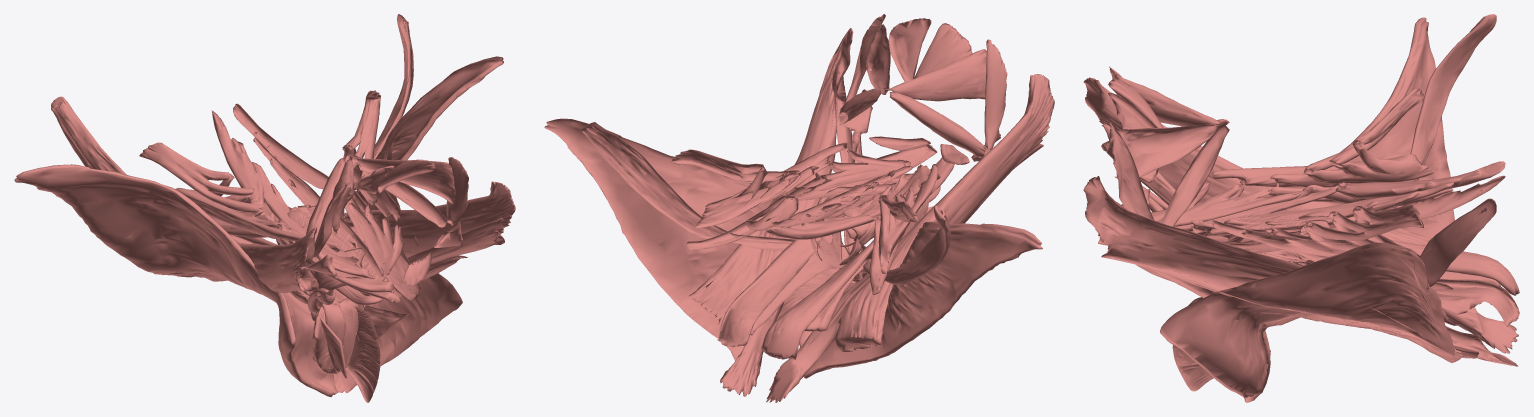
The model's file is neck__muscular.dc0d908191.glb.
The picture shows the model from 3 angles, left to right: view 1: azimuth 30°, elevation 25°; view 2: azimuth 150°, elevation 25°; view 3: azimuth 270°, elevation 25°; orthographic projection. The views are drawn at different scales.
Parts seen in each view (by area): view 1: Platysma.r, Platysma.l, Longus colli muscle.l, Sternocleidomastoid muscle.l, Longus colli muscle.r, Sternocleidomastoid muscle.r, Scalenus posterior muscle.r, Omohyoid muscle.r, Scalenus medius muscle.r, Genioglossus muscle.l, Rectus posterior major capitis muscle.l, Omohyoid muscle.l (+22 smaller); view 2: Platysma.l, Sternocleidomastoid muscle.r, Platysma.r, Sternocleidomastoid muscle.l, Omohyoid muscle.l, Longus colli muscle.l, Sternothyroid muscle.l, Sternothyroid muscle.r, Scalenus medius muscle.l, Rectus posterior major capitis muscle.r, Longus colli muscle.r, Omohyoid muscle.r (+20 smaller); view 3: Platysma.l, Sternocleidomastoid muscle.l, Longus colli muscle.r, Platysma.r, Sternocleidomastoid muscle.r, Scalenus medius muscle.r, Omohyoid muscle.r, Rectus posterior major capitis muscle.l, Scalenus medius muscle.l, Omohyoid muscle.l, Scalenus posterior muscle.l, Obliquus inferior capitis muscle.l (+17 smaller).
Boxes of the visible parts, x1,y1,x2,y2 form: Platysma.r: (14, 164, 337, 396); Platysma.l: (332, 56, 503, 393); Longus colli muscle.l: (233, 103, 403, 276); Sternocleidomastoid muscle.l: (343, 181, 515, 258); Longus colli muscle.r: (211, 110, 375, 278); Sternocleidomastoid muscle.r: (238, 224, 317, 293); Scalenus posterior muscle.r: (139, 142, 266, 212); Omohyoid muscle.r: (51, 96, 307, 303); Scalenus medius muscle.r: (175, 173, 304, 241); Genioglossus muscle.l: (344, 306, 380, 402); Rectus posterior major capitis muscle.l: (351, 158, 455, 203); Omohyoid muscle.l: (341, 14, 413, 218); Platysma.l: (544, 118, 860, 360); Sternocleidomastoid muscle.r: (766, 74, 1054, 402); Platysma.r: (799, 221, 1042, 378); Sternocleidomastoid muscle.l: (689, 28, 853, 396); Omohyoid muscle.l: (581, 122, 795, 251); Longus colli muscle.l: (745, 149, 912, 230); Sternothyroid muscle.l: (717, 237, 821, 346); Sternothyroid muscle.r: (761, 240, 873, 359); Scalenus medius muscle.l: (695, 142, 847, 228); Rectus posterior major capitis muscle.r: (888, 49, 986, 101); Longus colli muscle.r: (767, 164, 940, 239); Omohyoid muscle.r: (863, 205, 950, 284); Platysma.l: (1160, 242, 1478, 402); Sternocleidomastoid muscle.l: (1083, 176, 1518, 366); Longus colli muscle.r: (1158, 161, 1505, 231); Platysma.r: (1249, 17, 1477, 396); Sternocleidomastoid muscle.r: (1083, 77, 1518, 353); Scalenus medius muscle.r: (1211, 140, 1433, 187); Omohyoid muscle.r: (1359, 14, 1496, 232); Rectus posterior major capitis muscle.l: (1117, 124, 1219, 177); Scalenus medius muscle.l: (1211, 207, 1419, 257); Omohyoid muscle.l: (1409, 198, 1496, 295); Scalenus posterior muscle.l: (1304, 204, 1423, 240); Obliquus inferior capitis muscle.l: (1161, 126, 1229, 226).
Bounding box in the file's own units: 273 × 147 × 188.
